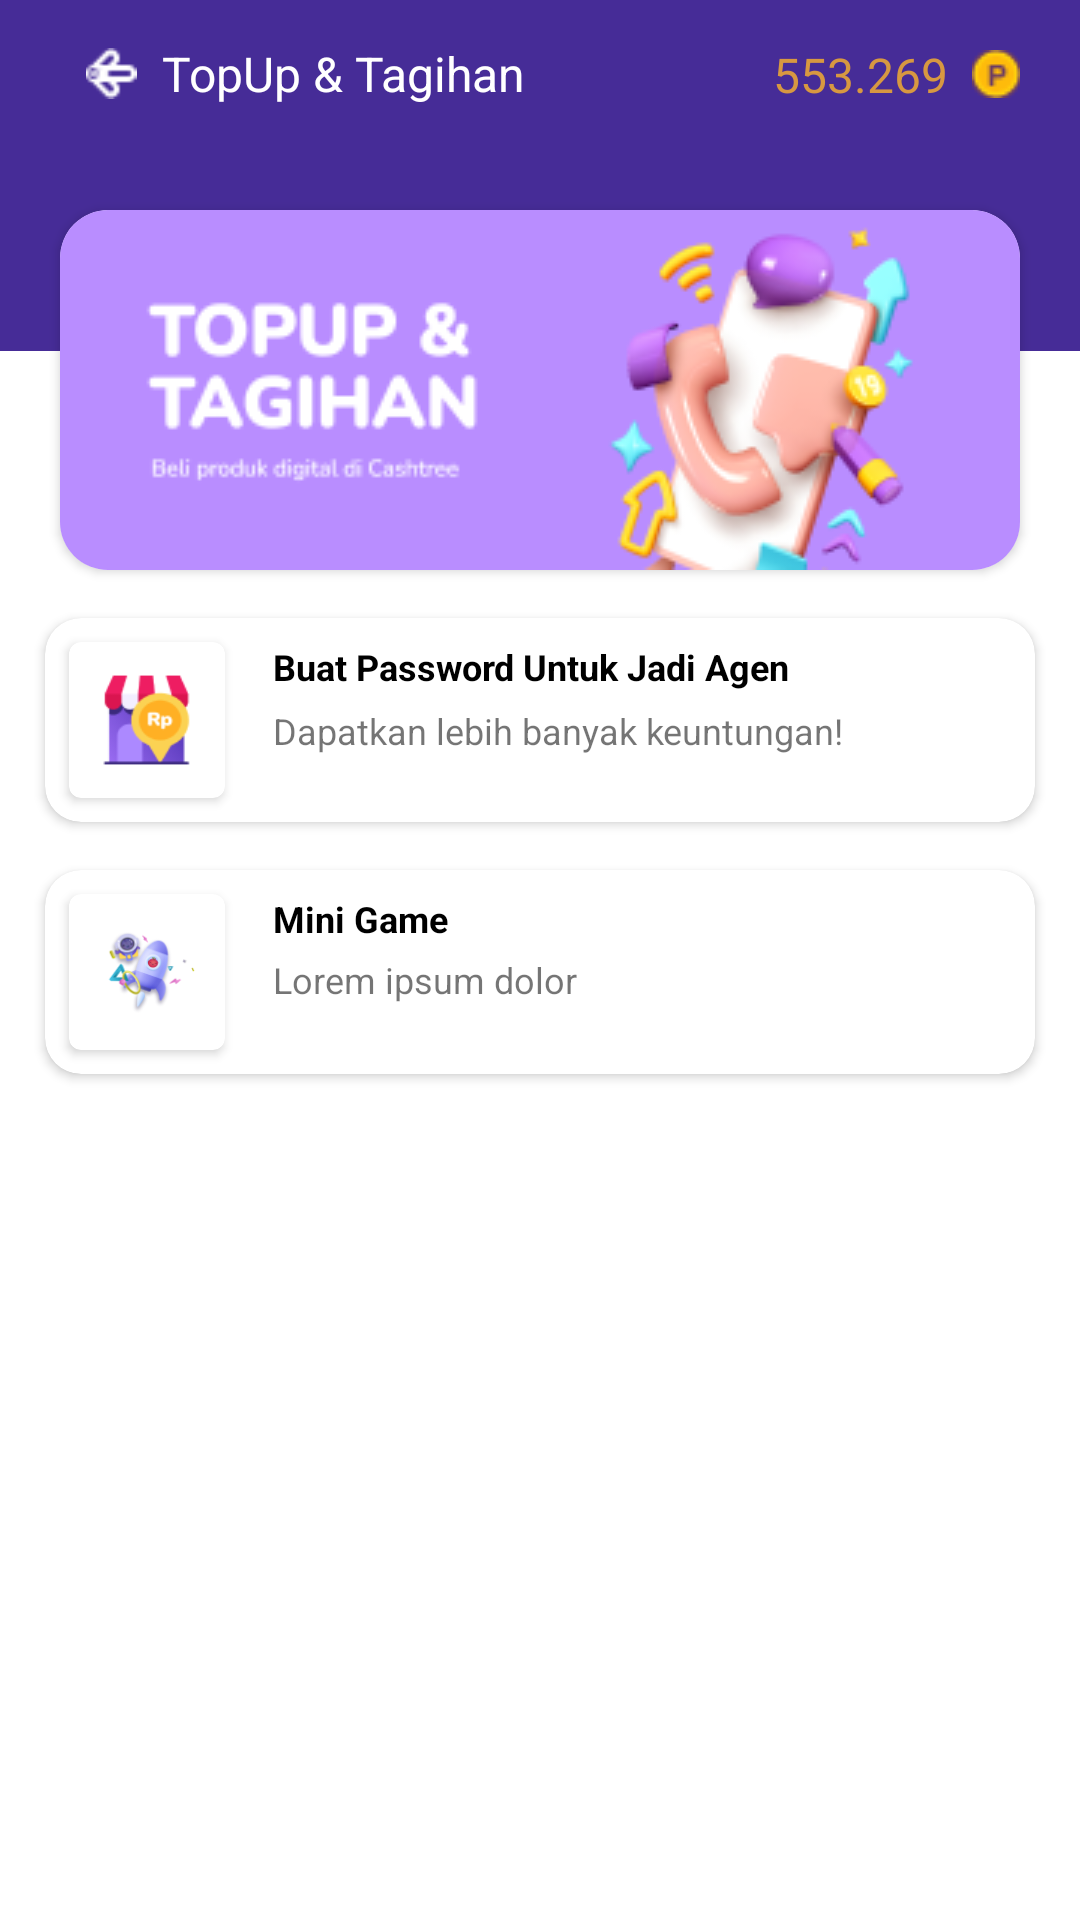

Icons on this 1080px x 1920px Android screen, each with its box as (x1, y1, x2, y2):
back: (86, 48, 137, 99)
coin: (972, 50, 1020, 98)
